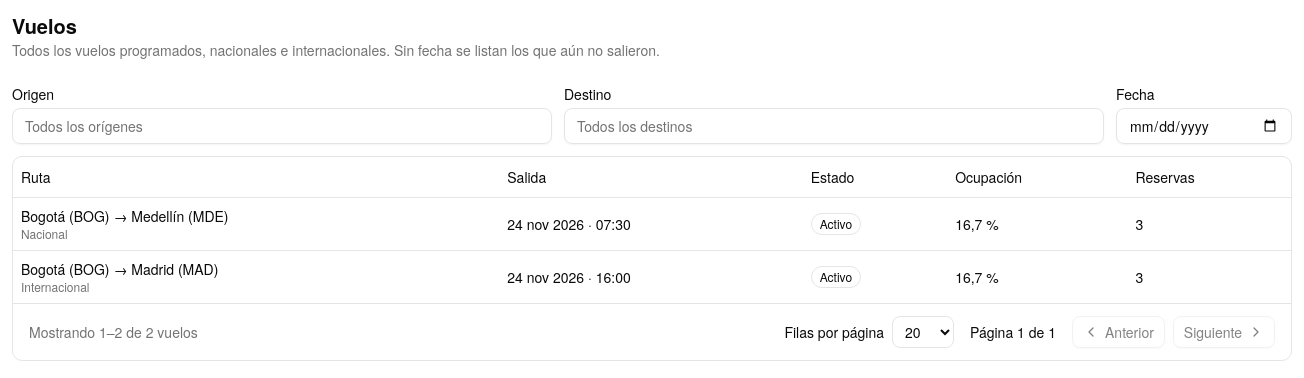
Test: sección Vuelos › filtra por fecha y «Limpiar filtros» los quita
Expected: the text "Mostrando 1–2 de 2 vuelos" is shown, left=29, top=322, right=198, bottom=342
Type "2026-12-10" into the date field labelled "Fecha". click: (1204, 126)
box: left=1116, top=108, right=1292, bottom=144
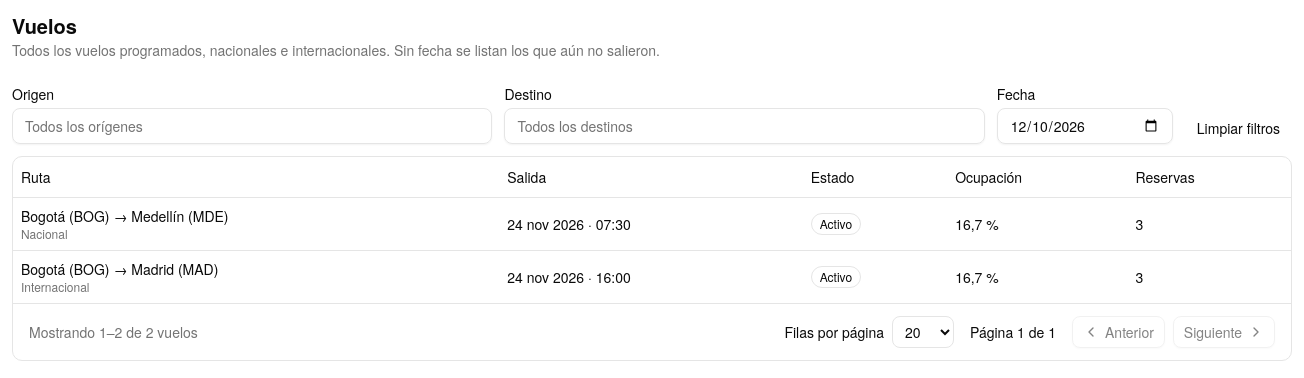
Click the button "Limpiar filtros". click: (1238, 128)
box: left=1185, top=112, right=1292, bottom=144
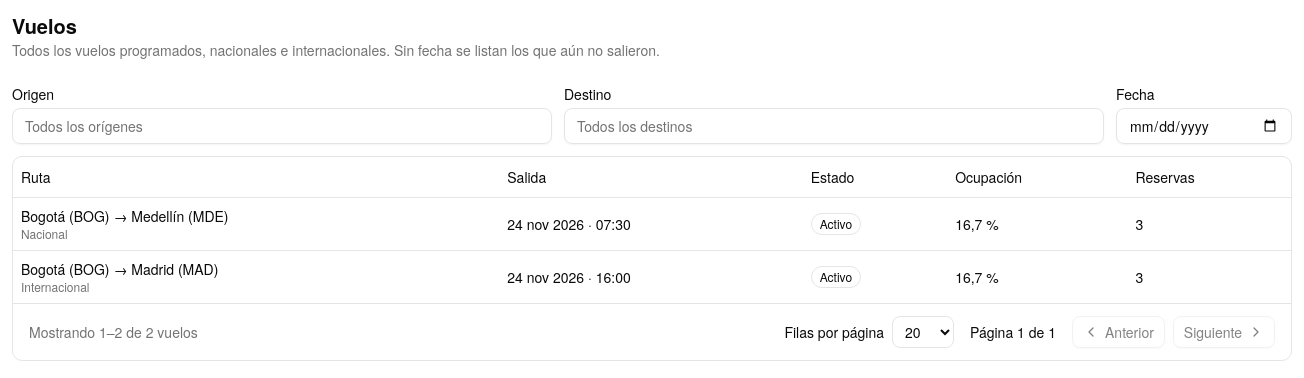
Now the button "Limpiar filtros" is gone
